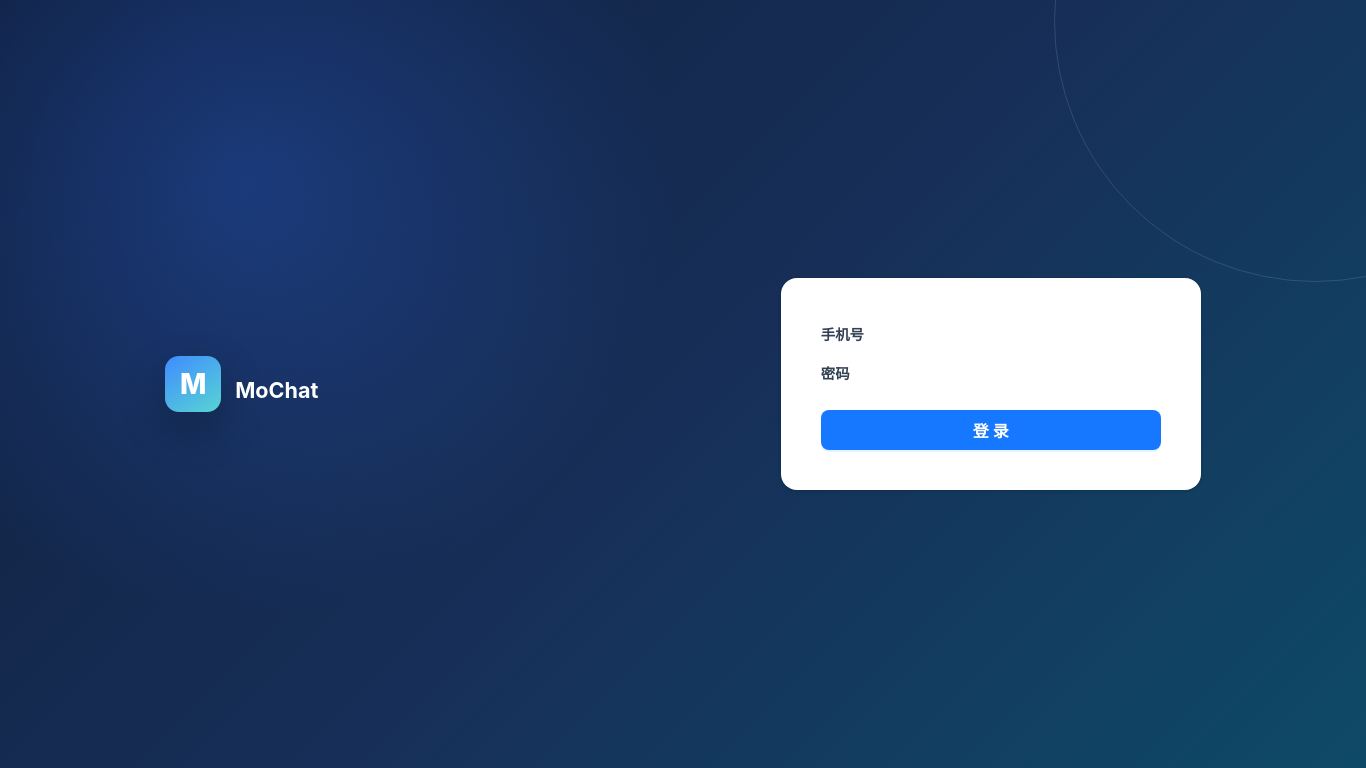
Scenario: LoginPage › validates empty fields before sending a request
This screenshot has width=1366, height=768.
Click the button named "登录": (991, 430) [821,410,1161,450]
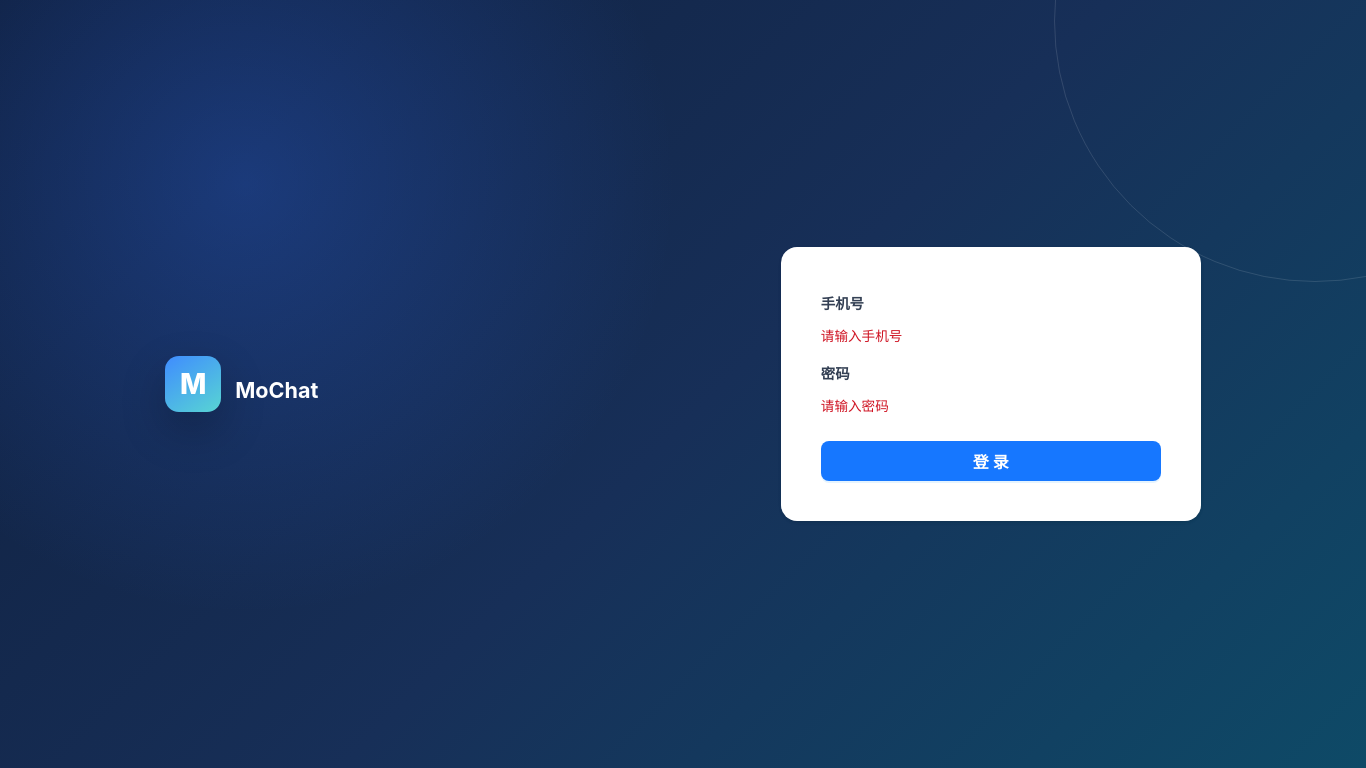
Expected: the text "请输入手机号" is shown, [821,328,902,344]
Expected: the text "请输入密码" is shown, [821,398,889,414]
